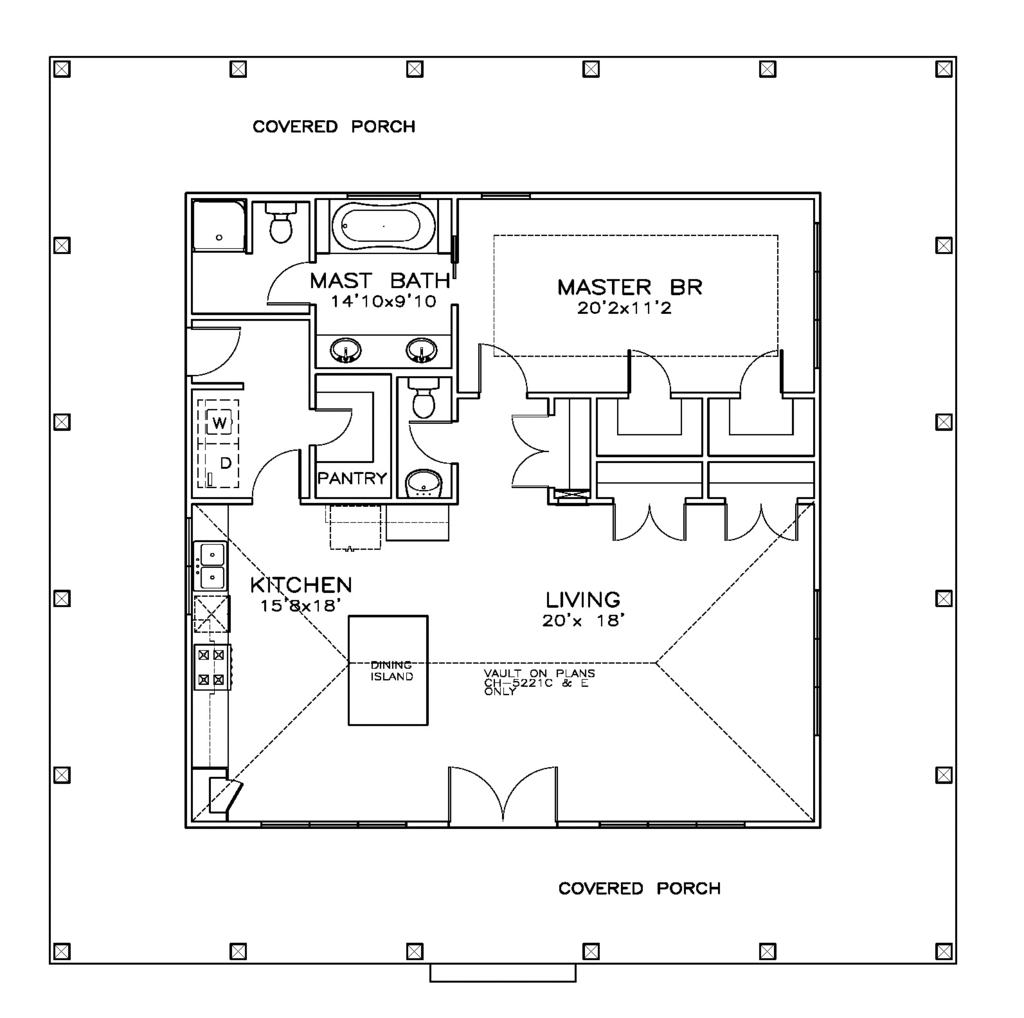door: (439, 759, 565, 824), (511, 410, 563, 502), (617, 497, 683, 550), (246, 447, 305, 505), (725, 501, 802, 545), (479, 331, 528, 397), (254, 259, 311, 314), (185, 324, 243, 377), (408, 417, 465, 464), (626, 347, 679, 397), (739, 348, 789, 399), (311, 410, 354, 447)
large_sink: (259, 202, 311, 256), (403, 379, 448, 422)
small_sink: (322, 330, 452, 368), (191, 542, 245, 602), (399, 459, 449, 499)
tub: (328, 201, 440, 261)
window: (346, 188, 426, 199), (479, 188, 539, 201)
windows: (257, 811, 414, 834), (602, 814, 743, 833), (812, 591, 829, 739), (812, 219, 817, 377)
